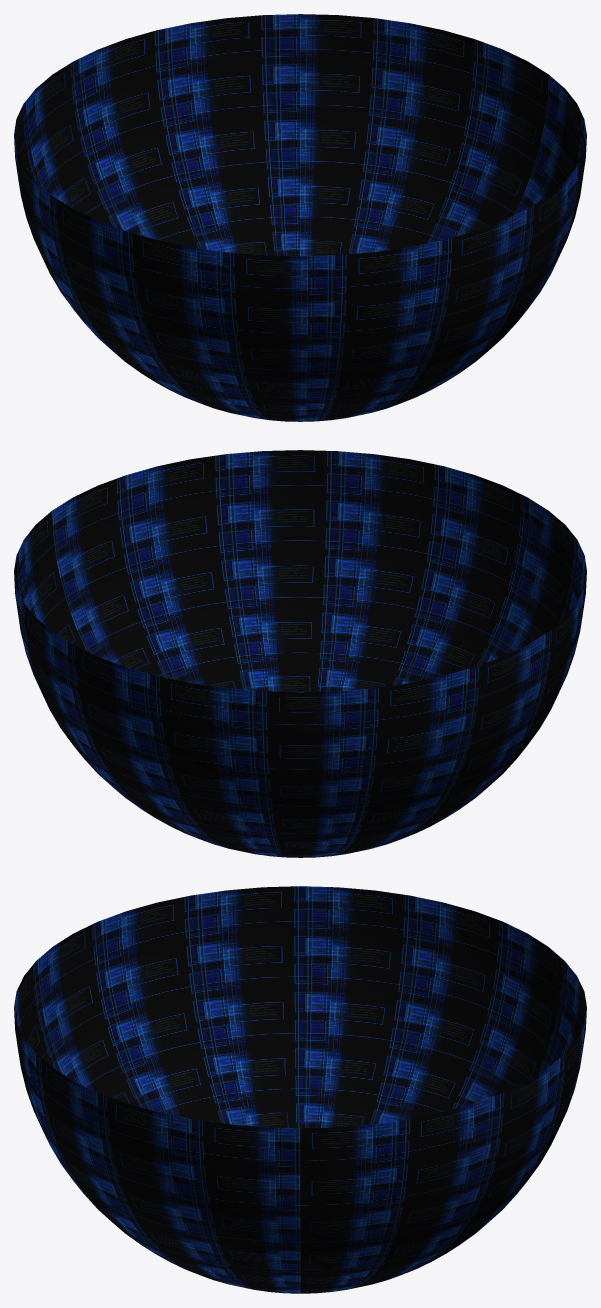
File: BG Dome Bottom.fbx
3 renders of one model, top to bottom at view 1: azimuth 30°, elevation 25°; view 2: azimuth 150°, elevation 25°; view 3: azimuth 270°, elevation 25°, orthographic.
Parts seen in each view (by area): view 1: object_0; view 2: object_0; view 3: object_0.
Part boxes in pixels (left/top/right/bottom): object_0: left=14, top=14, right=586, bottom=421; object_0: left=14, top=450, right=586, bottom=857; object_0: left=14, top=886, right=586, bottom=1293.
Size of the model in its own units: 76844 by 38422 by 76844.
